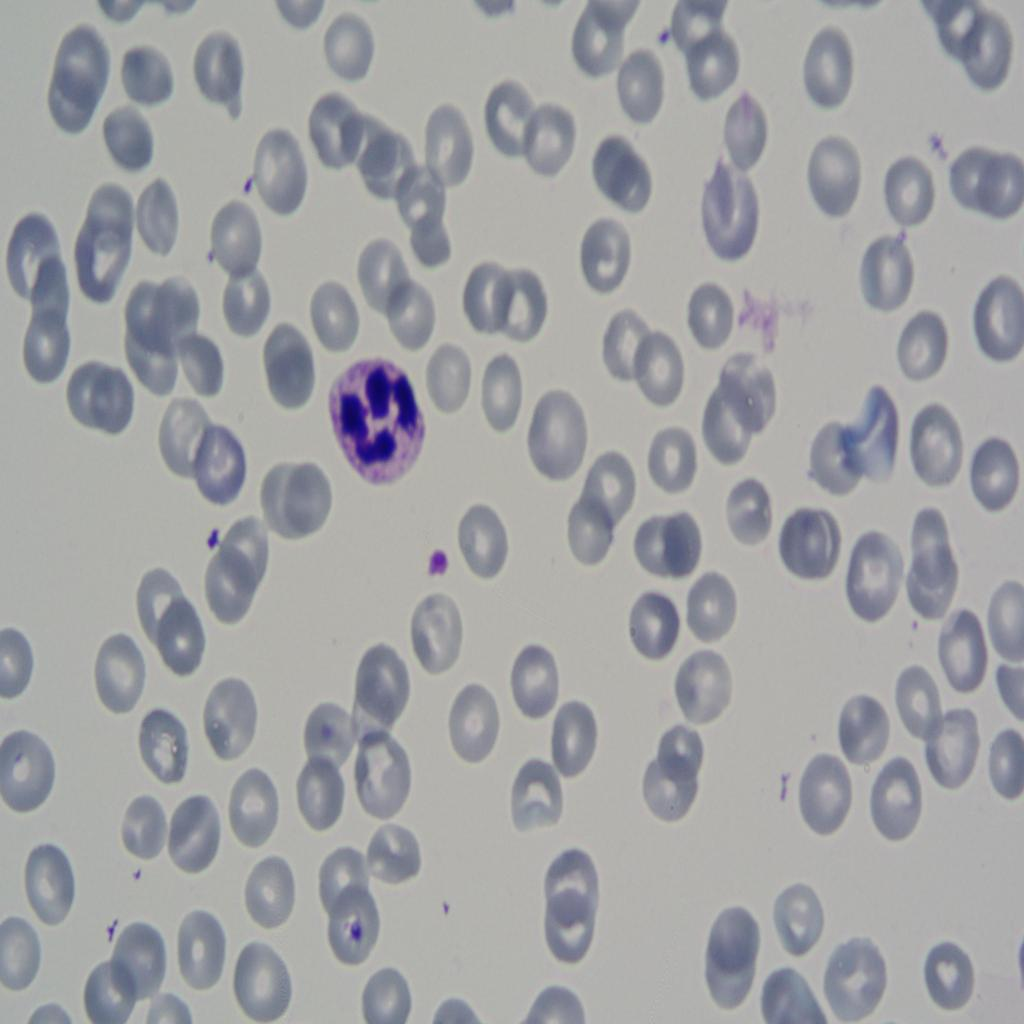Neutrofil: (325, 354, 433, 498)
Platelet: (648, 14, 674, 60), (424, 543, 452, 583), (196, 520, 224, 560), (350, 907, 370, 954), (238, 166, 260, 200)
